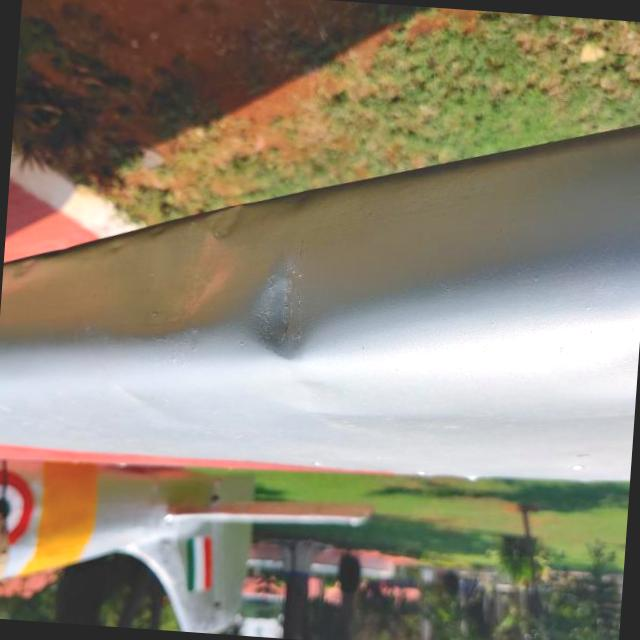dent: (123, 189, 257, 357), (226, 252, 336, 372)
